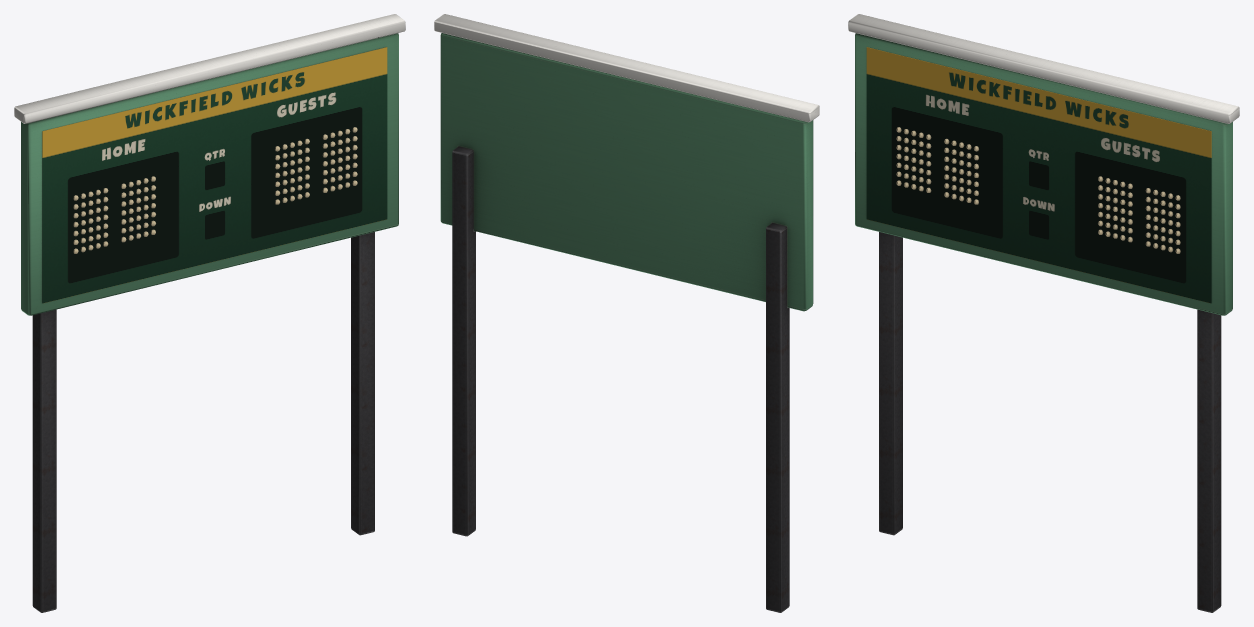
File: WFScoreboard.fbx
3 renders of one model, left to right at view 1: azimuth 30°, elevation 25°; view 2: azimuth 150°, elevation 25°; view 3: azimuth 330°, elevation 25°, orthographic.
Visible parts, largest first — view 1: WFScoreboard_Labels, WFScoreboard_Main, WFScoreboard_Bulbs; view 2: WFScoreboard_Main; view 3: WFScoreboard_Labels, WFScoreboard_Main, WFScoreboard_Bulbs.
Part boxes in pixels (bbox=[...]): WFScoreboard_Labels: bbox=[42, 47, 387, 303]; WFScoreboard_Main: bbox=[14, 14, 405, 612]; WFScoreboard_Bulbs: bbox=[73, 127, 357, 253]; WFScoreboard_Main: bbox=[434, 14, 819, 612]; WFScoreboard_Labels: bbox=[866, 47, 1211, 303]; WFScoreboard_Main: bbox=[848, 14, 1239, 612]; WFScoreboard_Bulbs: bbox=[896, 127, 1180, 253].
Bounding box in the file's own units: 1440 × 1840 × 114.
